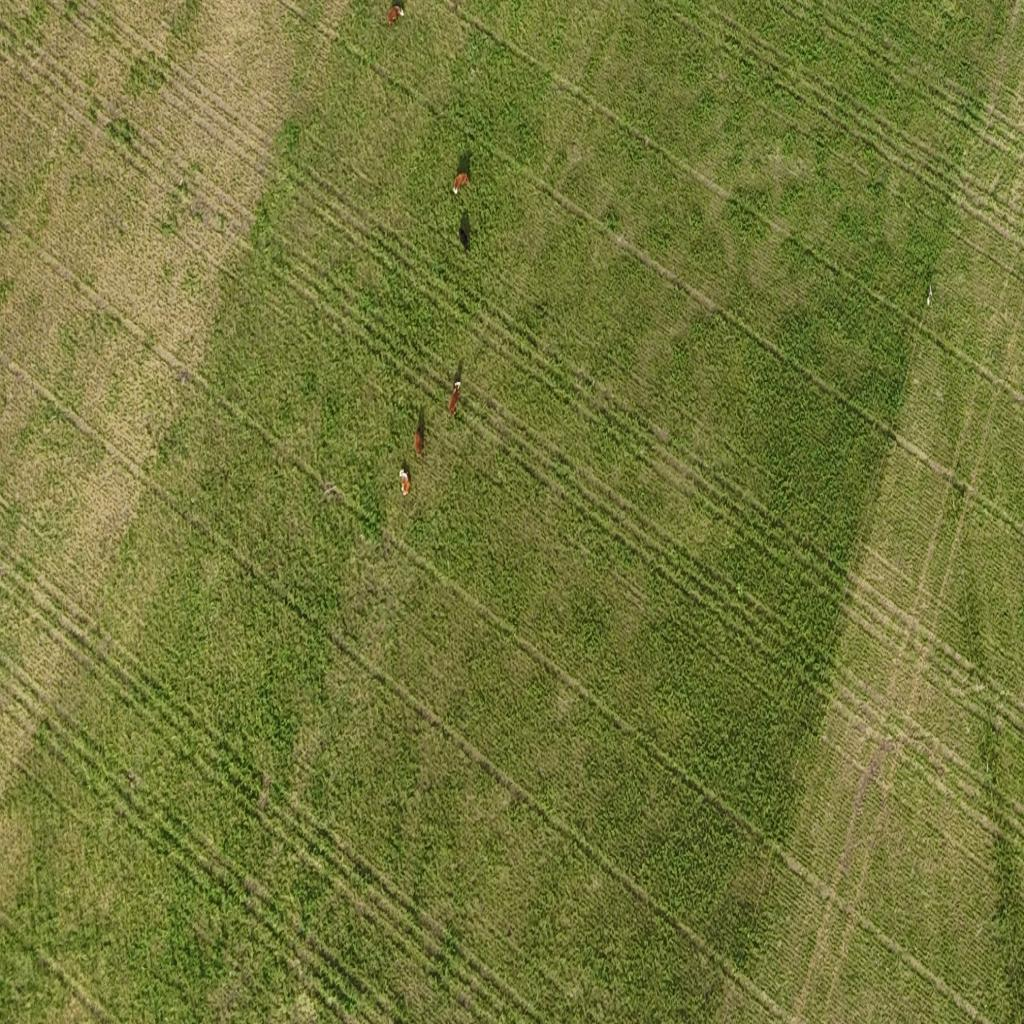cow: (452, 162, 472, 200), (411, 430, 425, 460), (387, 3, 405, 26), (448, 384, 460, 416), (399, 466, 411, 498), (458, 223, 470, 251)
